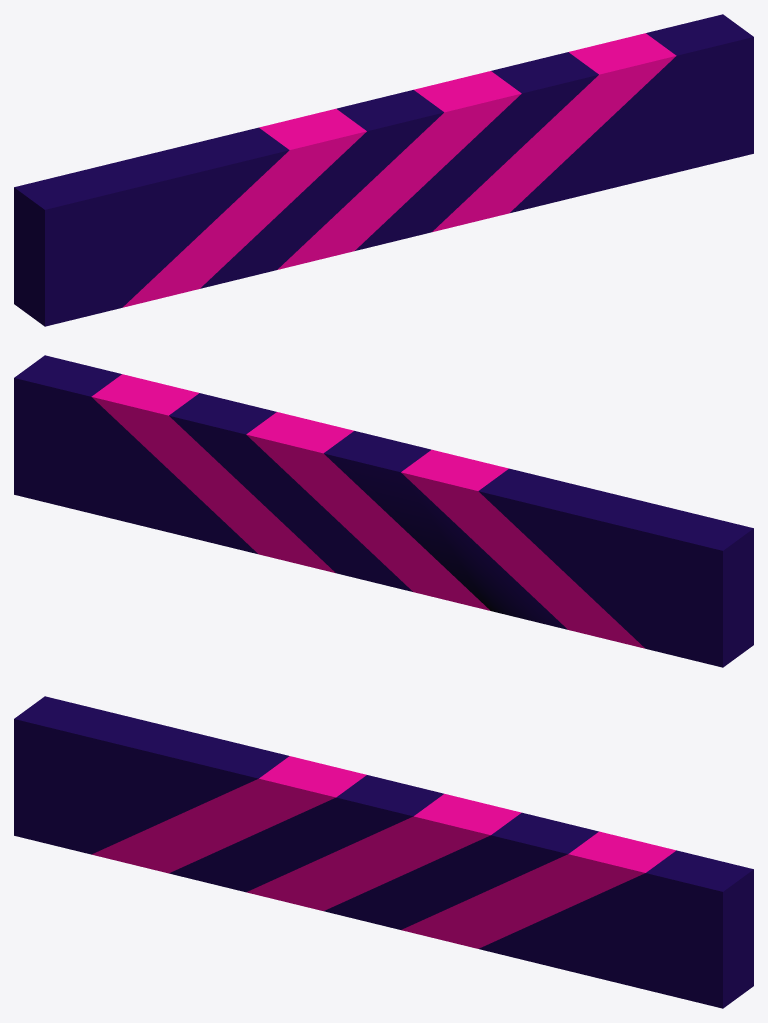
The model's file is Barrier-A.FBX.
3 renders of one model, top to bottom at view 1: azimuth 30°, elevation 25°; view 2: azimuth 150°, elevation 25°; view 3: azimuth 330°, elevation 25°, orthographic.
Visible parts, largest first — view 1: Module base175; view 2: Module base175; view 3: Module base175.
Part boxes in pixels (x1,y1,x2,y2): Module base175: [14, 14, 753, 326]; Module base175: [14, 355, 753, 667]; Module base175: [14, 696, 753, 1008].
Bounding box in the file's own units: 265 × 41.66 × 20.
